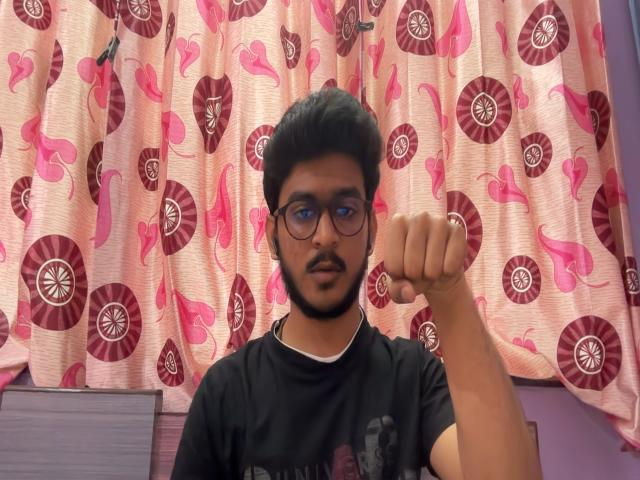Yes: (381, 202, 475, 309)
